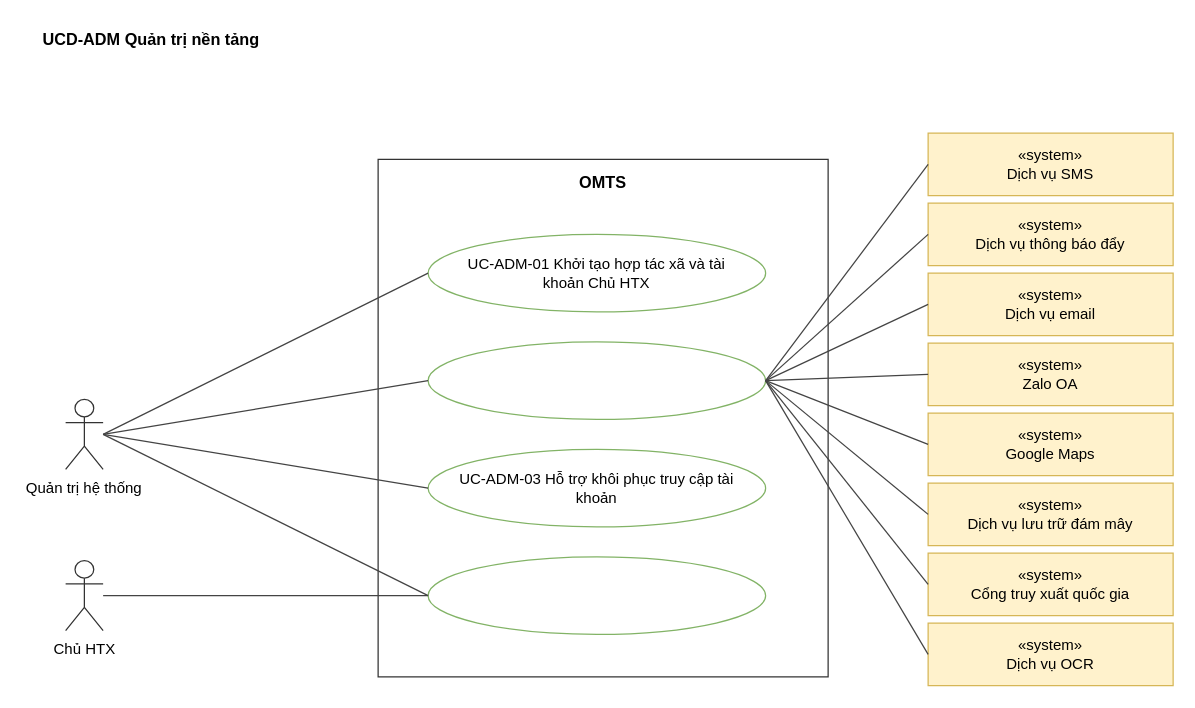
Image size: 1195x708. Some labels were removed from this diagram. The box of each missing label's shape, as (x1, y1, x2, y2) in pixels:
UC-ADM-02 Cấu hình nền tảng: (427, 341, 766, 419)
UC-ADM-04 Tra cứu nhật ký kiểm toán: (427, 556, 766, 634)
